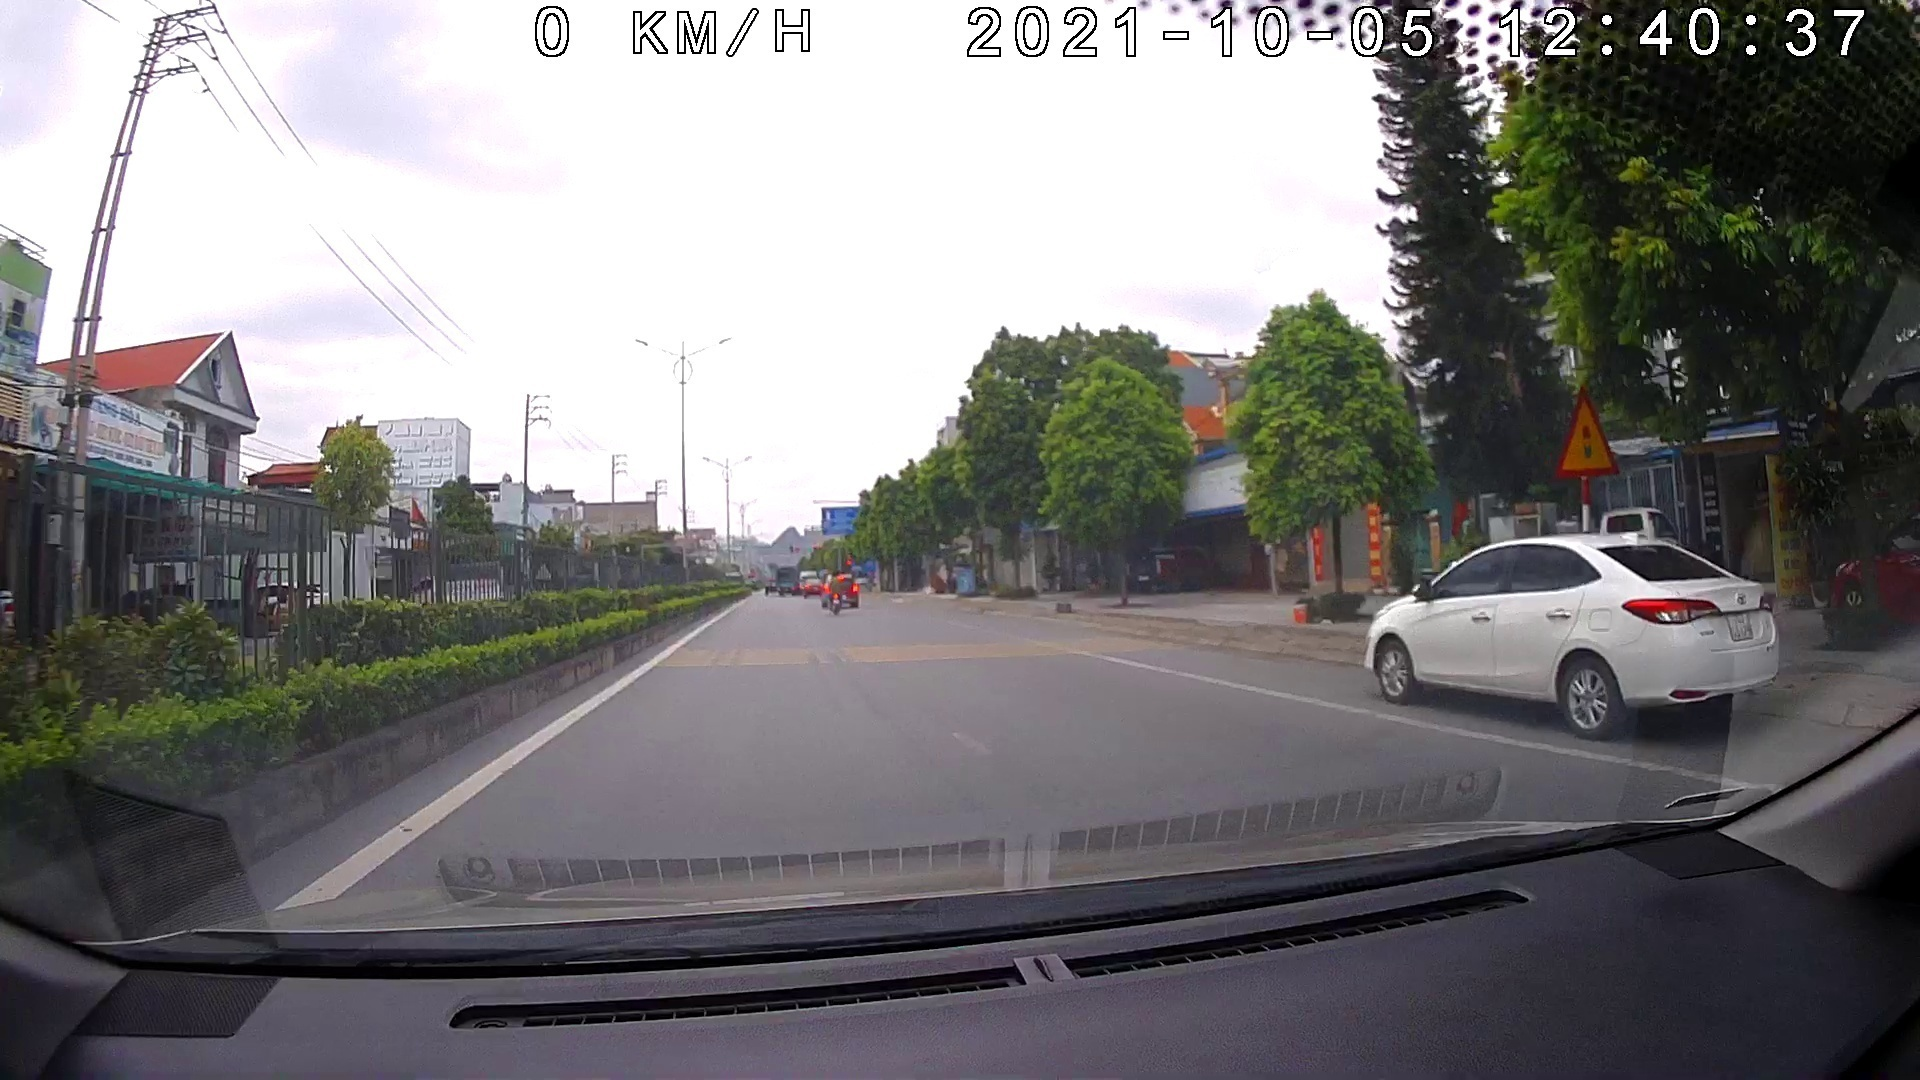Bien khac: (1556, 378, 1623, 481)
